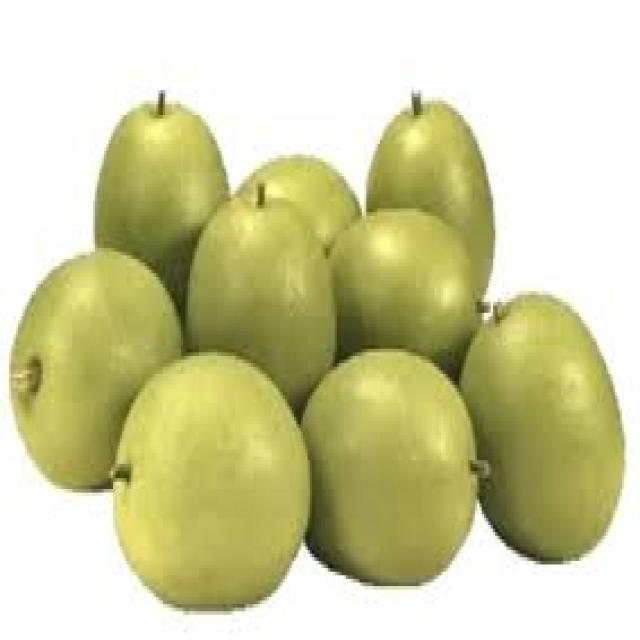olive: (2, 72, 629, 611)
